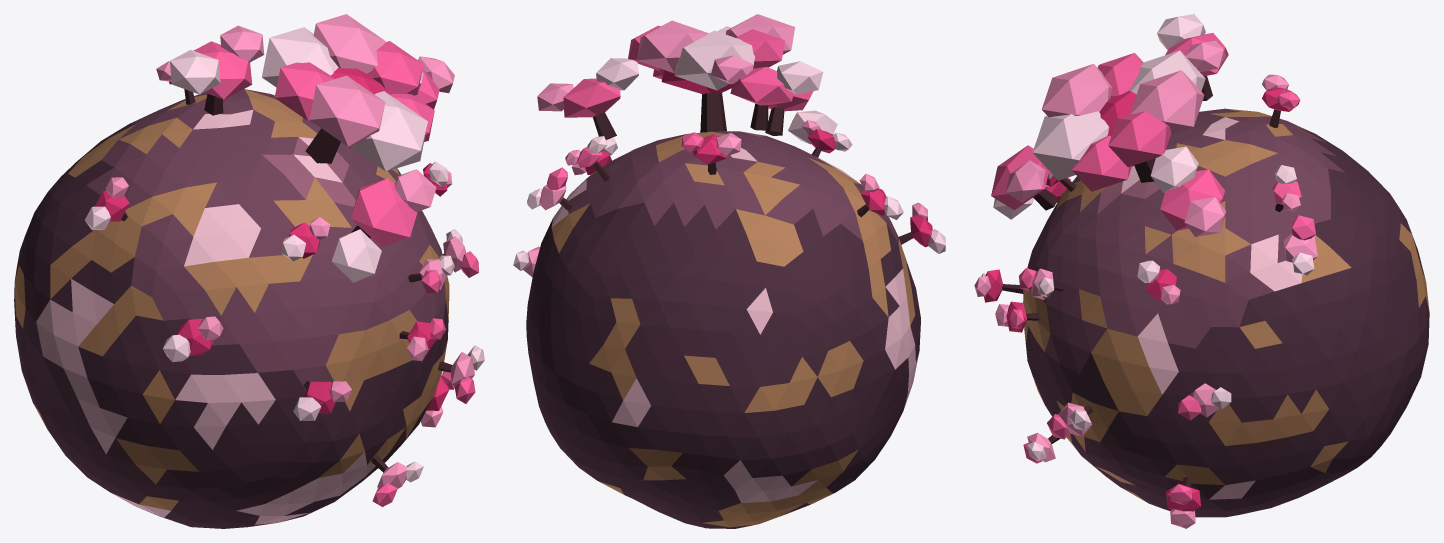
The model's file is Sakura_01.fbx.
3 views of the same model, side by side, from view 1: azimuth 30°, elevation 25°; view 2: azimuth 150°, elevation 25°; view 3: azimuth 270°, elevation 25° (orthographic). The views are drawn at different scales.
Parts seen in each view (by area): view 1: Sakura_01; view 2: Sakura_01; view 3: Sakura_01.
Boxes of the visible parts, left/top/right/bottom form: Sakura_01: left=14, top=14, right=484, bottom=528; Sakura_01: left=513, top=14, right=945, bottom=528; Sakura_01: left=974, top=14, right=1429, bottom=528.
Bounding box in the file's own units: 6.67 × 7.45 × 6.72.
Materials: 1 (1 with a texture image).
